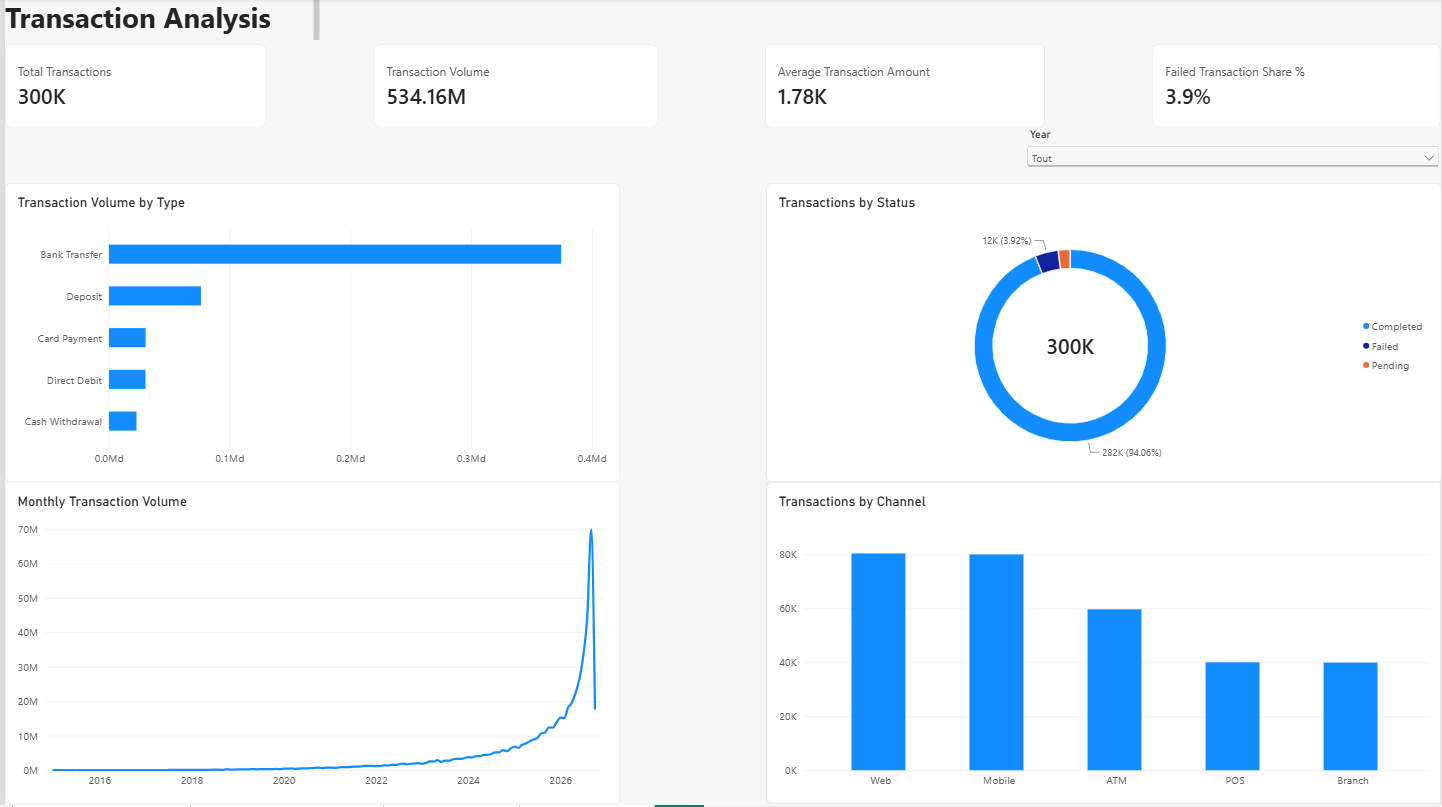

The page's visual inventory and layout, read from the dashboard file:
{"tool":"powerbi","page":{"name":"Transactions ","canvas":[1920,1080],"ordinal":3},"visuals":[{"type":"cardVisual","fields":{"Data":["public transactions.Total Transactions"]},"box":[0,61.7,349.9,111.1],"z":0},{"type":"cardVisual","fields":{"Data":["public transactions.Transaction Volume"]},"box":[492.5,61.7,380.8,111.1],"z":1},{"type":"cardVisual","fields":{"Data":["public transactions.Average Transaction Amount"]},"box":[1015.8,61.7,374.6,111.1],"z":2},{"type":"cardVisual","fields":{"Data":["public transactions.Failed Transaction Share %"]},"box":[1533,61.7,387,111.1],"z":3},{"type":"lineChart","title":"Monthly Transaction Volume","fields":{"Category":["Date.MonthStart"],"Y":["public transactions.Transaction Volume"]},"box":[0,646.3,821.3,430.2],"z":4},{"type":"barChart","title":"Transaction Volume by Type","fields":{"Category":["public transactions.transaction_type"],"Y":["public transactions.Transaction Volume"]},"box":[0,247,821.3,399.3],"z":5},{"type":"clusteredColumnChart","title":"Transactions by Channel","fields":{"Category":["public transactions.channel"],"Y":["public transactions.Total Transactions"]},"box":[1016.8,646.3,903.6,430.2],"z":6},{"type":"donutChart","title":"Transactions by Status","fields":{"Category":["public transactions.transaction_status"],"Y":["public transactions.Total Transactions"]},"box":[1016.8,247,903.6,399.3],"z":7},{"type":"slicer","fields":{"Values":["Date.Year"]},"box":[1360.6,172.9,559.9,74.1],"z":8},{"type":"textbox","box":[0,0,419.9,61.7],"z":12}]}

Visuals, with their boxes in screenshot pixels (x1, y1, x2, y2), scaled from the page's 1920x1080 canvas onto the 1442x807 screenshot:
cardVisual - public transactions.Total Transactions: <box>0,46,263,129</box>
cardVisual - public transactions.Transaction Volume: <box>370,46,656,129</box>
cardVisual - public transactions.Average Transaction Amount: <box>763,46,1044,129</box>
cardVisual - public transactions.Failed Transaction Share %: <box>1151,46,1441,129</box>
"Monthly Transaction Volume" lineChart: <box>0,483,617,804</box>
"Transaction Volume by Type" barChart: <box>0,185,617,483</box>
"Transactions by Channel" clusteredColumnChart: <box>764,483,1441,804</box>
"Transactions by Status" donutChart: <box>764,185,1441,483</box>
slicer - Date.Year: <box>1022,129,1441,185</box>
textbox: <box>0,0,315,46</box>
